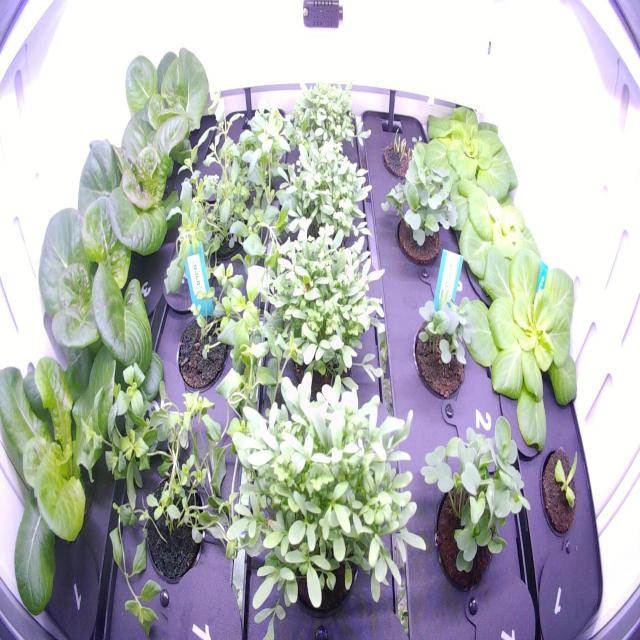germination: (408, 283, 479, 407), (394, 162, 461, 279)
young: (0, 336, 166, 626), (26, 137, 185, 423), (448, 228, 590, 454), (75, 83, 205, 264), (404, 88, 529, 223), (106, 31, 218, 178), (442, 170, 552, 300), (533, 436, 589, 544)
